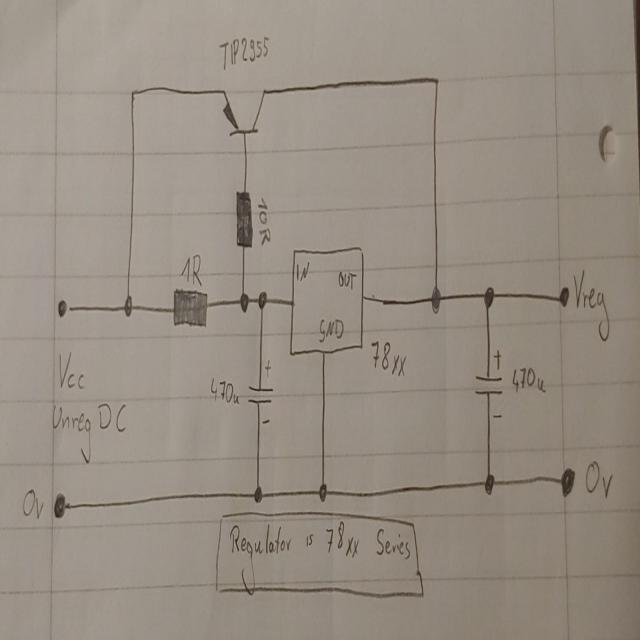capacitor: (473, 347, 505, 419), (246, 358, 274, 426)
junction: (429, 282, 442, 315), (481, 283, 495, 311), (482, 471, 496, 496), (122, 292, 134, 319), (238, 289, 250, 313), (256, 288, 268, 310), (252, 484, 262, 504), (318, 480, 327, 502), (432, 70, 441, 90), (129, 85, 136, 101)
resistor: (172, 286, 208, 329), (234, 188, 253, 249)
terminal: (558, 463, 576, 500), (52, 488, 69, 522), (57, 295, 75, 321), (557, 284, 570, 308)
text: (228, 518, 410, 598), (51, 400, 128, 464), (574, 267, 611, 345), (218, 31, 270, 68), (371, 339, 407, 378), (58, 348, 86, 391), (511, 363, 546, 397), (584, 459, 612, 501), (209, 376, 239, 406), (316, 314, 344, 343), (22, 485, 44, 521), (256, 194, 271, 246), (180, 252, 202, 285), (338, 268, 356, 289), (294, 258, 310, 281)
transistor: (219, 78, 268, 140)
